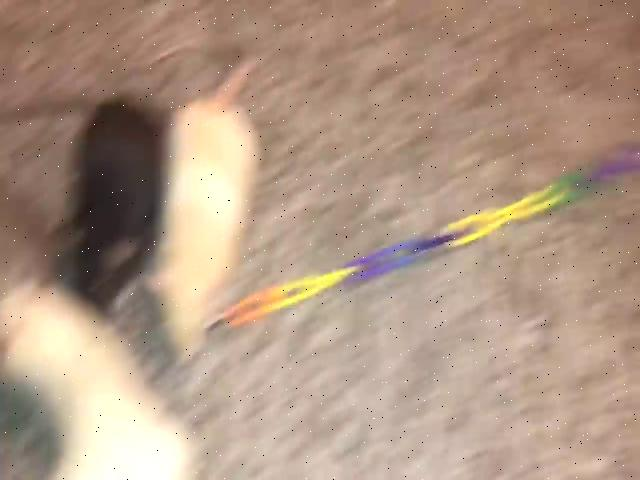Tikus: (162, 47, 262, 357), (73, 96, 159, 308)
